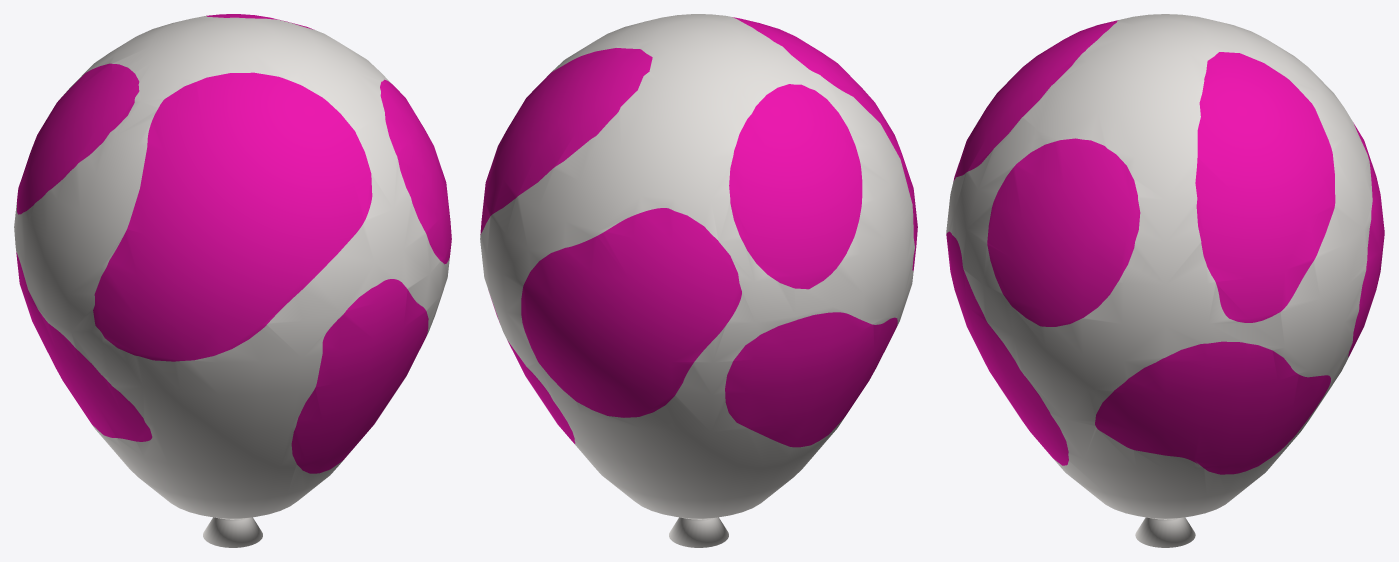
Rendered from BalloonExtraPoints.fbx.
The picture shows the model from 3 angles, left to right: view 1: azimuth 30°, elevation 25°; view 2: azimuth 150°, elevation 25°; view 3: azimuth 270°, elevation 25°; orthographic projection.
Visible parts, largest first — view 1: BallonModel.004; view 2: BallonModel.004; view 3: BallonModel.004.
Part boxes in pixels (<box>): BallonModel.004: <box>14,14,451,547</box>; BallonModel.004: <box>480,14,917,547</box>; BallonModel.004: <box>946,14,1384,547</box>.
Size of the model in its own units: 2 by 2 by 2.52.
